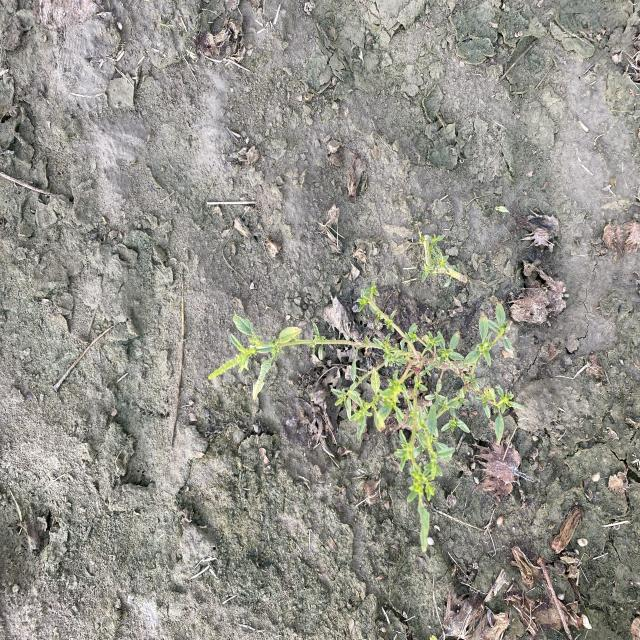Waterhemp: (207, 280, 527, 553), (409, 223, 471, 287)
